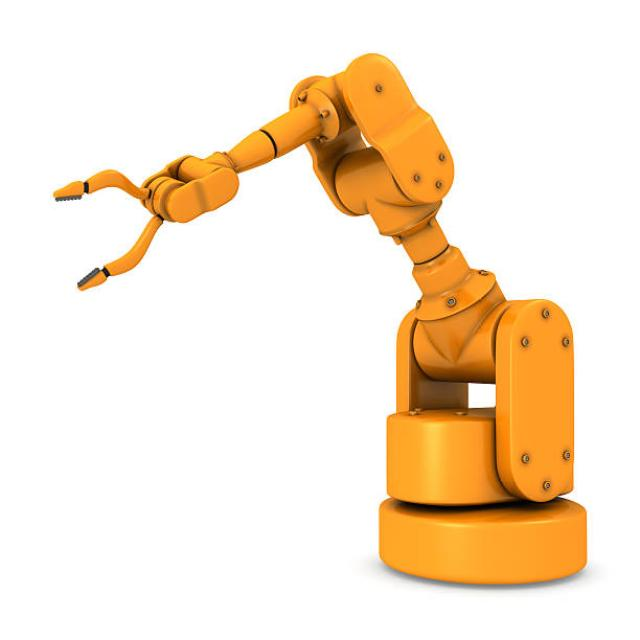Robotic-arm: (45, 44, 599, 594)
